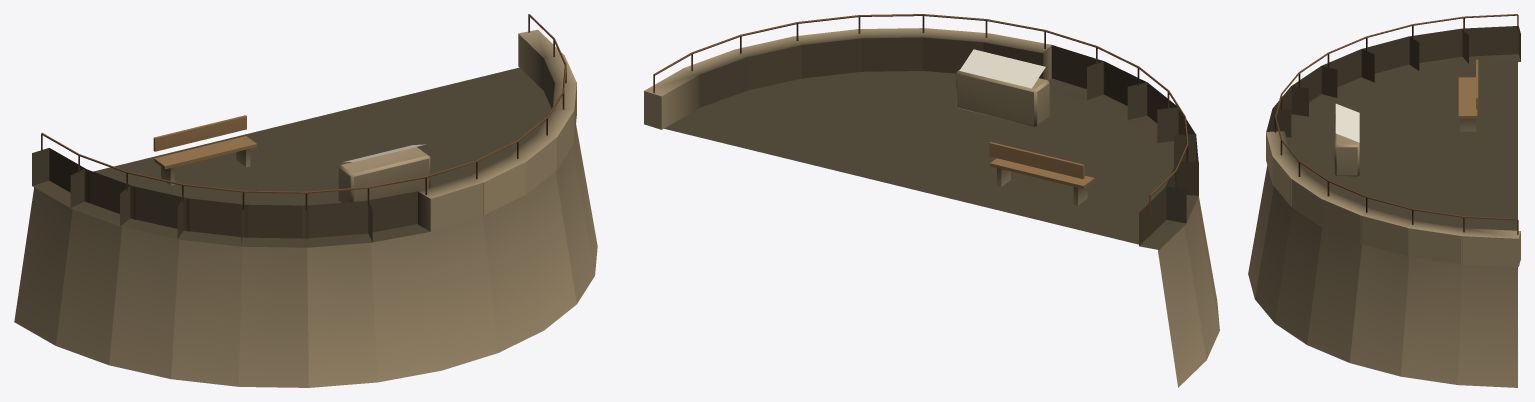
File: lookout_terrace.glb
3 views of the same model, side by side, from view 1: azimuth 30°, elevation 25°; view 2: azimuth 150°, elevation 25°; view 3: azimuth 270°, elevation 25° (orthographic). The views are drawn at different scales.
Visible parts, largest first — view 1: lookout_terrace_mesh; view 2: lookout_terrace_mesh; view 3: lookout_terrace_mesh.
Part boxes in pixels (bbox=[...]): lookout_terrace_mesh: bbox=[14, 14, 597, 387]; lookout_terrace_mesh: bbox=[644, 14, 1219, 387]; lookout_terrace_mesh: bbox=[1248, 14, 1520, 387].
Bounding box in the file's own units: 12.96 × 4.17 × 6.55.
